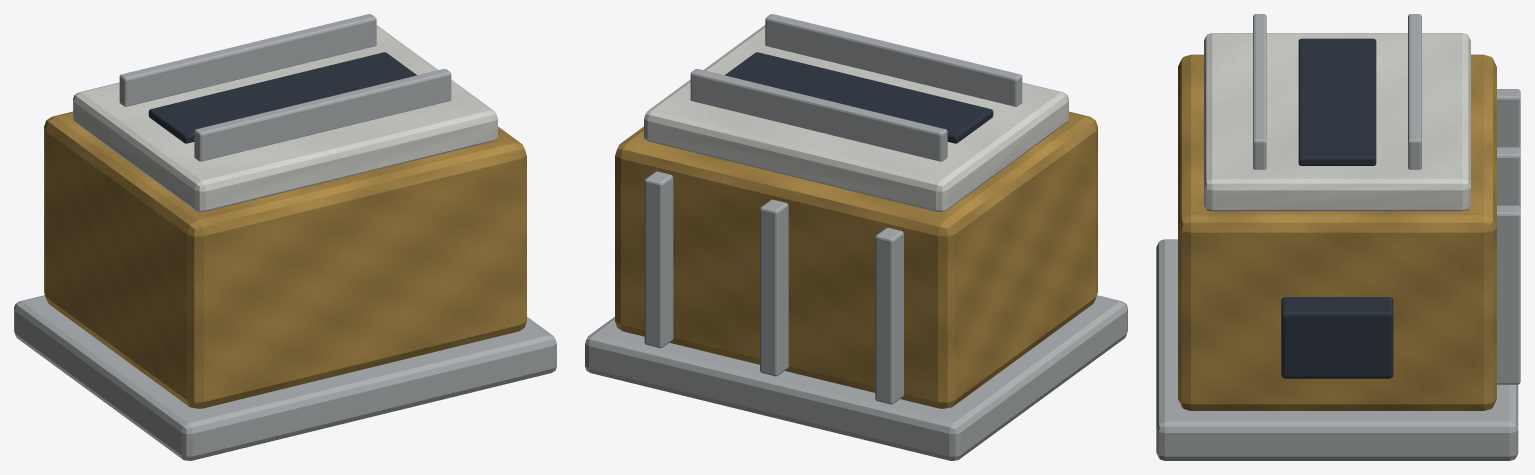
File: satellite_atmospheric_spectrometer.glb
The picture shows the model from 3 angles, left to right: view 1: azimuth 30°, elevation 25°; view 2: azimuth 150°, elevation 25°; view 3: azimuth 270°, elevation 25°; orthographic projection. The views are drawn at different scales.
Visible parts, largest first — view 1: Spectrometer_Body, Spectrometer_Base, Spectrometer_OpticalHead, Baffle_Edge, Baffle_Edge.001, WideField_OpticalSlot; view 2: Spectrometer_Body, Spectrometer_Base, Spectrometer_OpticalHead, Baffle_Edge, Baffle_Edge.001, WideField_OpticalSlot, Spectrometer_RadiatorFin.002, Spectrometer_RadiatorFin, Spectrometer_RadiatorFin.001; view 3: Spectrometer_Body, Spectrometer_OpticalHead, Spectrometer_Base, WideField_OpticalSlot, Electronics_Connector, Spectrometer_RadiatorFin.002, Baffle_Edge, Baffle_Edge.001, Spectrometer_RadiatorFin, Spectrometer_RadiatorFin.001.
Boxes of the visible parts, x1,y1,x2,y2 form: Spectrometer_Body: [44, 111, 526, 408]; Spectrometer_Base: [14, 295, 556, 460]; Spectrometer_OpticalHead: [73, 25, 497, 212]; Baffle_Edge: [194, 69, 451, 161]; Baffle_Edge.001: [119, 14, 376, 106]; WideField_OpticalSlot: [148, 52, 416, 143]; Spectrometer_Body: [615, 111, 1097, 408]; Spectrometer_Base: [585, 295, 1127, 460]; Spectrometer_OpticalHead: [644, 25, 1068, 212]; Baffle_Edge: [765, 14, 1022, 106]; Baffle_Edge.001: [690, 69, 947, 161]; WideField_OpticalSlot: [725, 52, 993, 143]; Spectrometer_RadiatorFin.002: [644, 171, 673, 348]; Spectrometer_RadiatorFin: [875, 227, 903, 404]; Spectrometer_RadiatorFin.001: [760, 199, 788, 376]; Spectrometer_Body: [1178, 54, 1496, 410]; Spectrometer_OpticalHead: [1204, 33, 1470, 211]; Spectrometer_Base: [1156, 239, 1518, 460]; WideField_OpticalSlot: [1298, 38, 1376, 165]; Electronics_Connector: [1281, 297, 1393, 378]; Spectrometer_RadiatorFin.002: [1497, 205, 1520, 384]; Baffle_Edge: [1253, 14, 1266, 169]; Baffle_Edge.001: [1408, 14, 1421, 169]; Spectrometer_RadiatorFin: [1497, 89, 1520, 149]; Spectrometer_RadiatorFin.001: [1497, 147, 1520, 207].
Size of the model in its own units: 0.54 by 0.375 by 0.4225.
4 materials, 2 textured.
